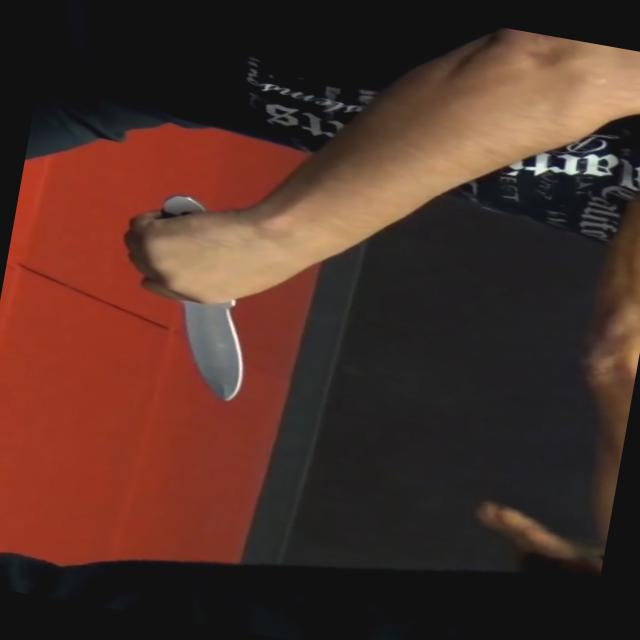knife: (95, 180, 288, 411)
